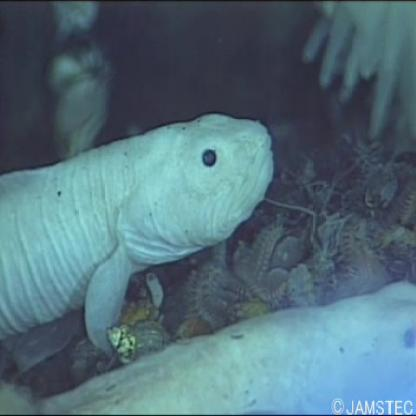Bio: (1, 108, 280, 350)
